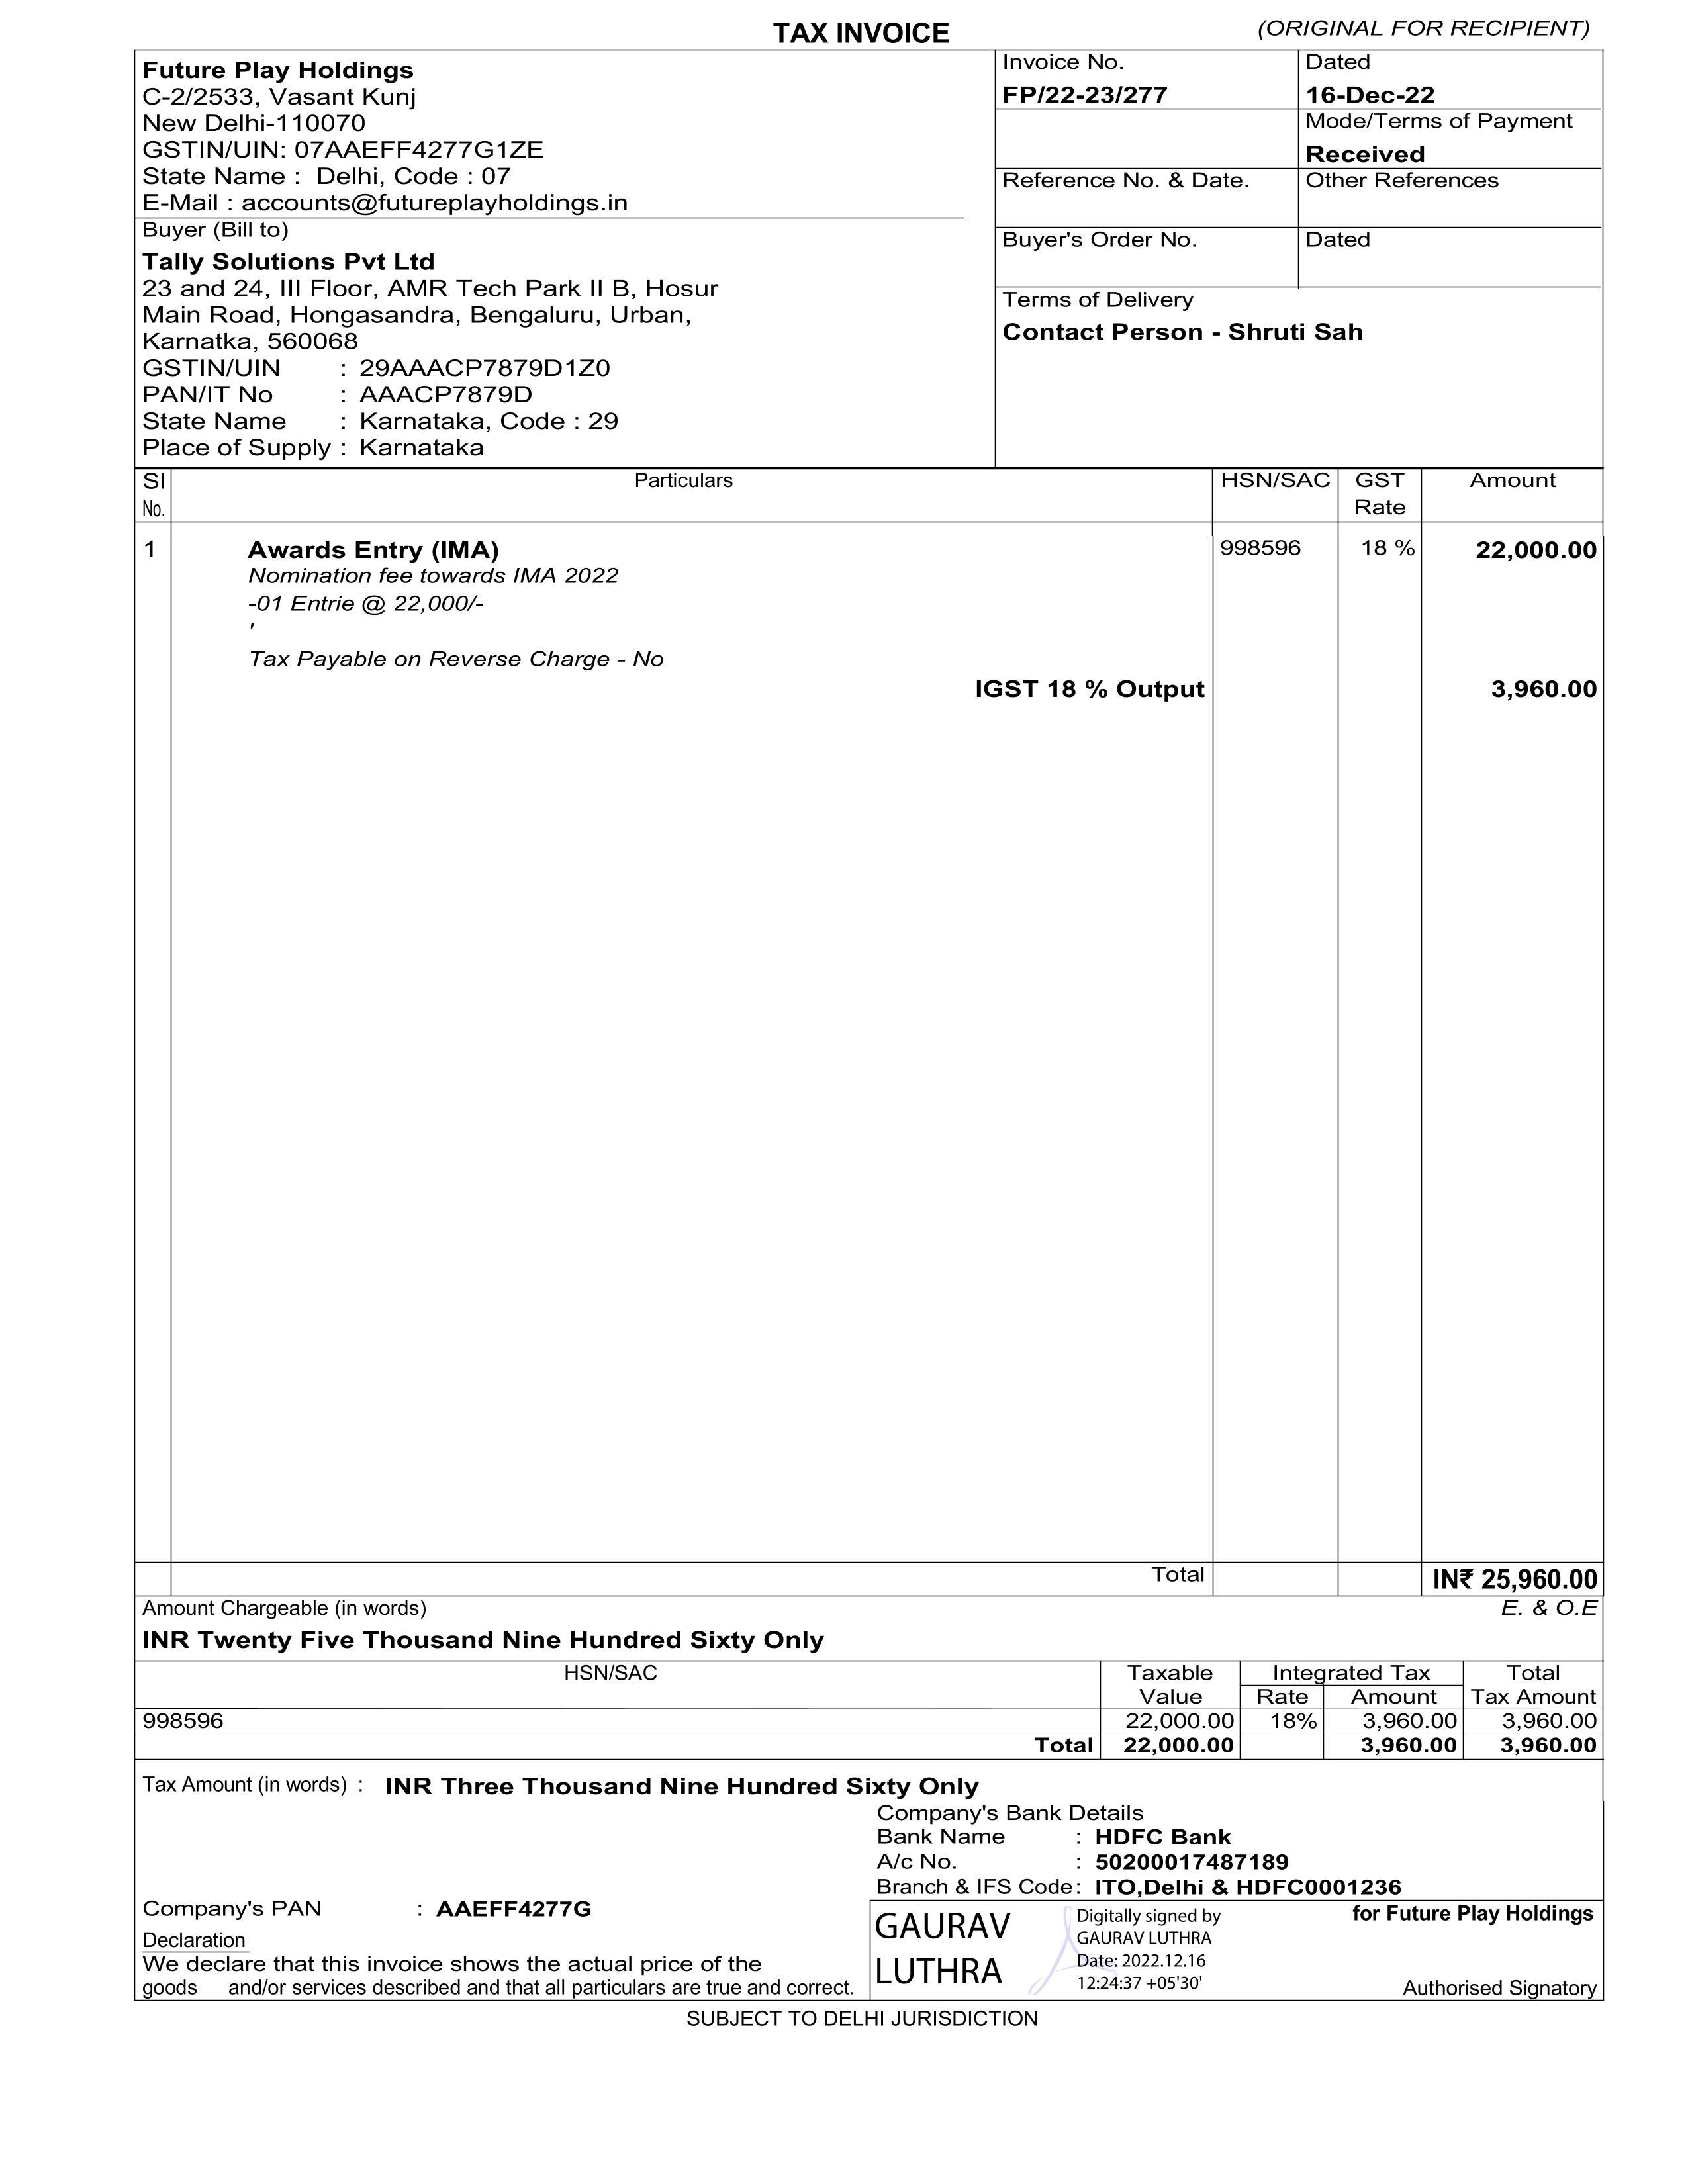InvoiceDate: (1303, 82, 1440, 108)
InvoiceNumber: (998, 76, 1172, 113)
TotalAmount: (1427, 1562, 1599, 1595)
